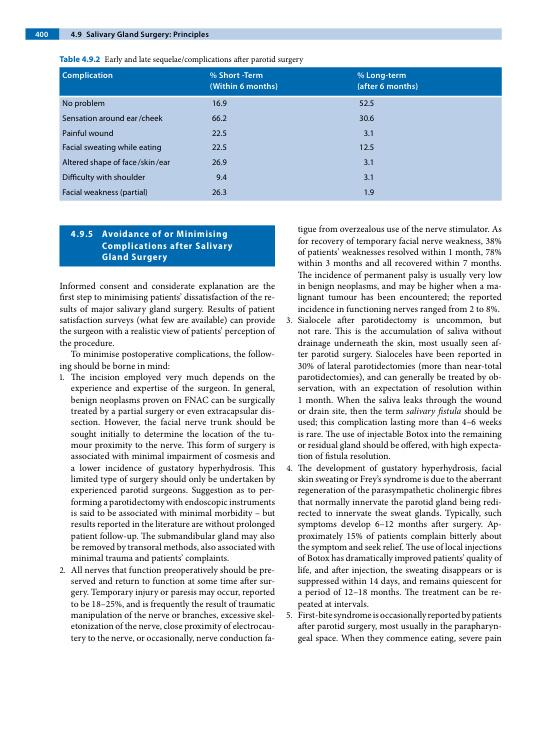caption: (58, 55, 305, 65)
header: (85, 30, 210, 40)
list: (285, 224, 504, 645), (58, 372, 276, 645)
section-heading: (101, 229, 233, 263)
table: (58, 66, 502, 201)
text: (58, 280, 276, 372)
